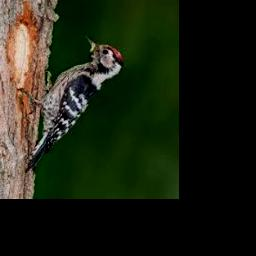Woodpecker: (18, 36, 124, 171)
